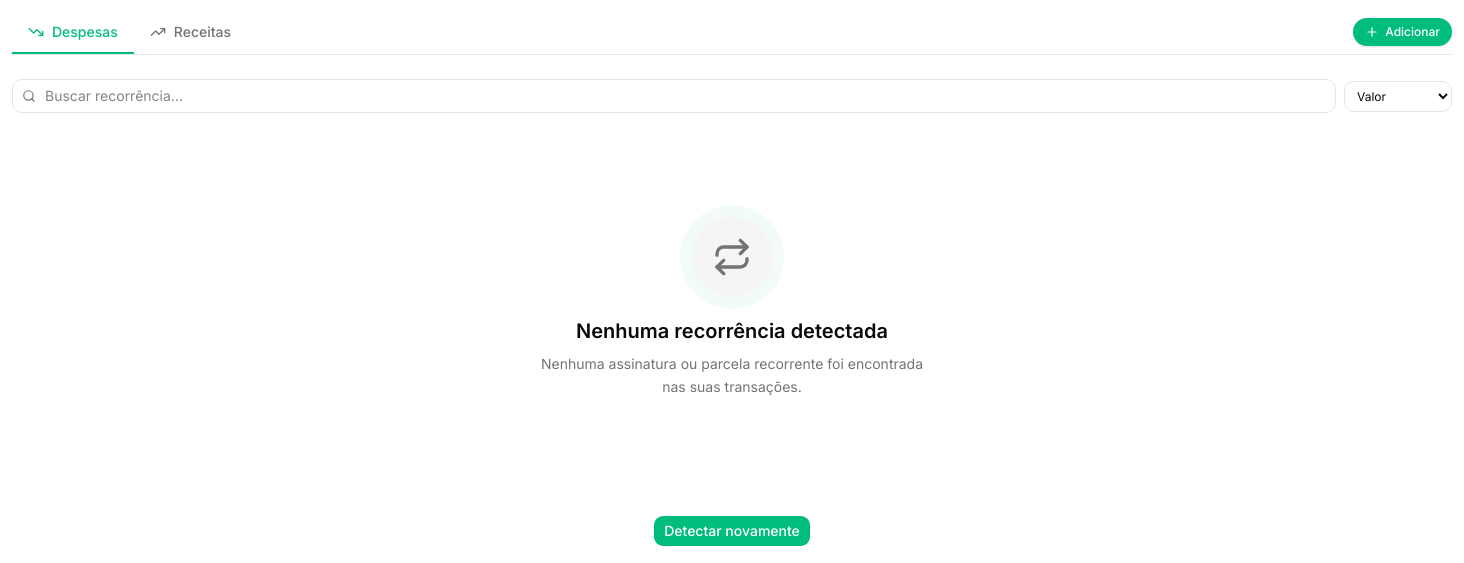
Scenario: RecurringList › renders income items in the Receitas tab
Click the button "Receitas" at (190, 33), box [134,12,247,54]
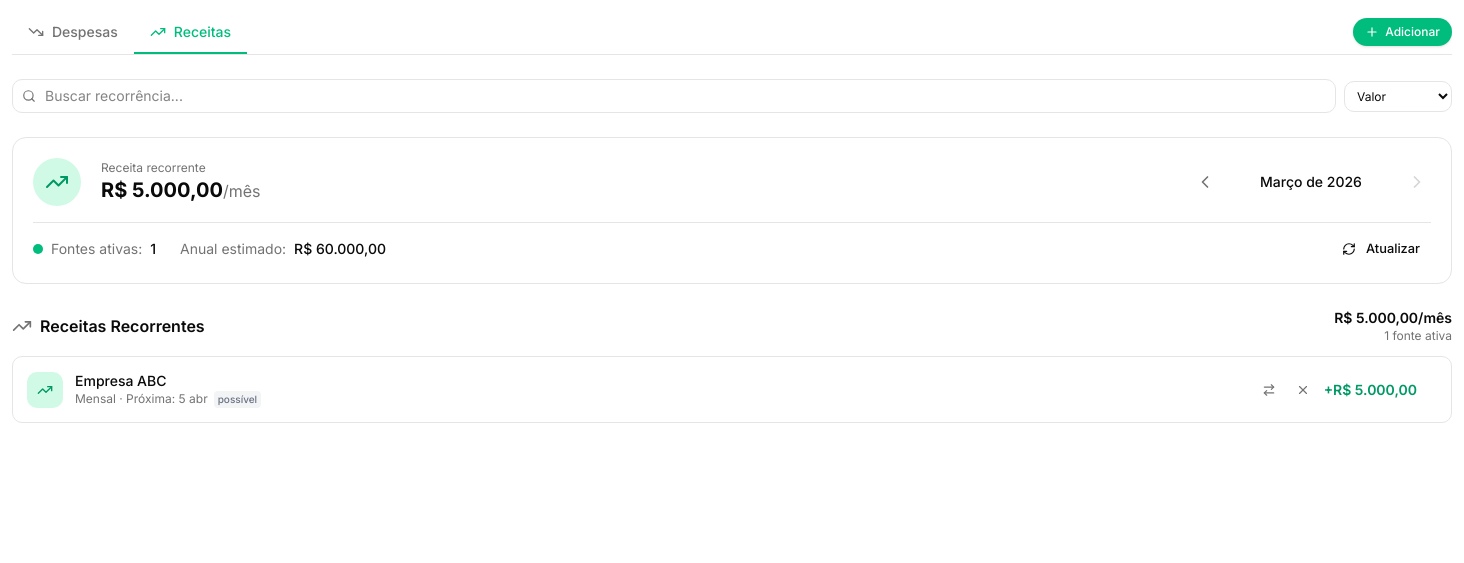
Check: the text "Empresa ABC" is shown, box [75,372,166,389]
Check: the heading "Receitas Recorrentes" is shown, box [12,314,205,338]
